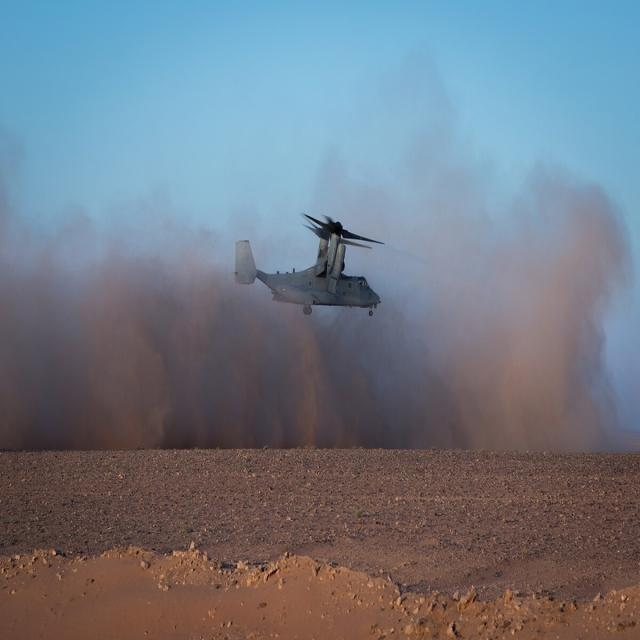MIL_Plane: (232, 210, 386, 317)
